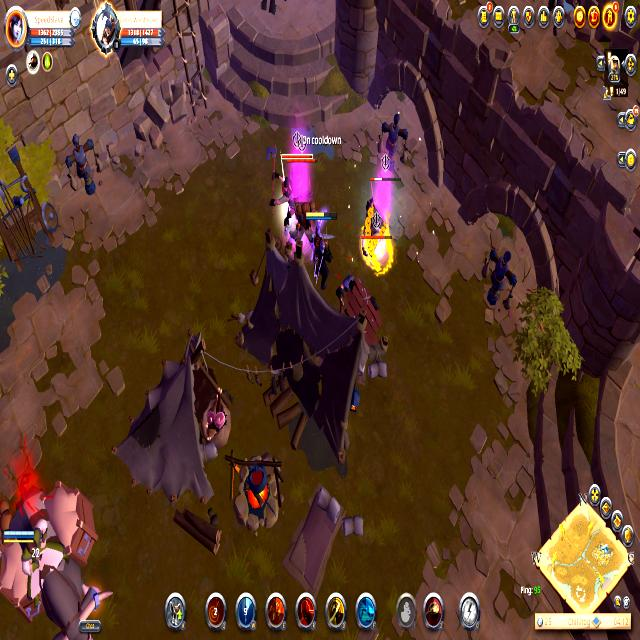ore: (356, 148, 403, 264), (274, 147, 315, 262), (336, 262, 387, 344)
red: (0, 467, 105, 637), (302, 206, 337, 292)
